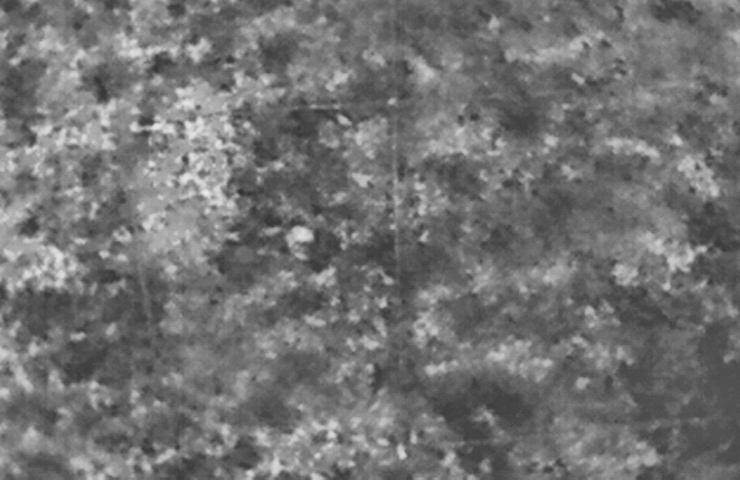landmines: (283, 222, 319, 259)
